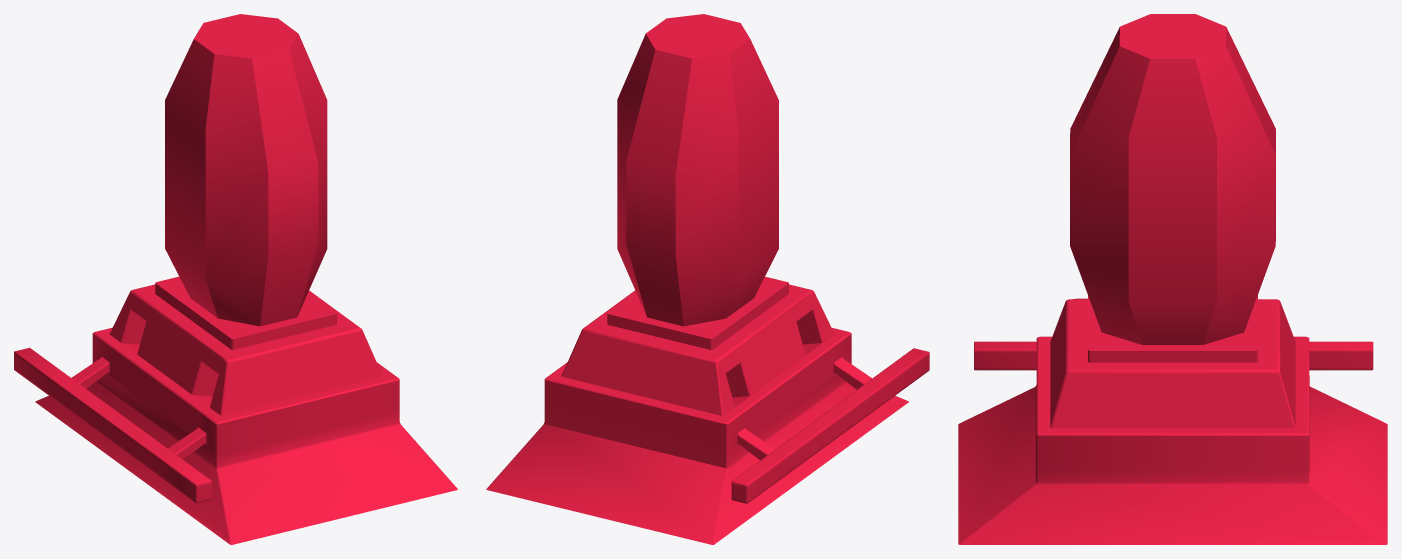
Rendered from FanvilHandle.FBX.
3 views of the same model, side by side, from view 1: azimuth 30°, elevation 25°; view 2: azimuth 150°, elevation 25°; view 3: azimuth 270°, elevation 25° (orthographic). The views are drawn at different scales.
Visible parts, largest first — view 1: FunvilHandleHigh2; view 2: FunvilHandleHigh2; view 3: FunvilHandleHigh2.
Boxes of the visible parts, x1,y1,x2,y2 form: FunvilHandleHigh2: (14, 14, 457, 544); FunvilHandleHigh2: (486, 14, 929, 544); FunvilHandleHigh2: (958, 14, 1387, 544).
Bounding box in the file's own units: 9.68 × 12.9 × 14.83.
